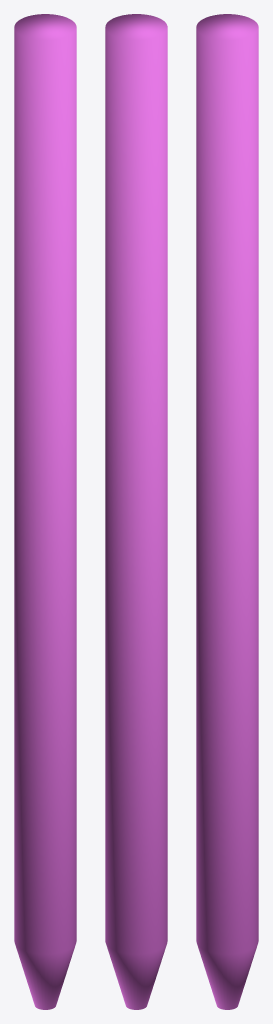
Rendered from PinForestTreeSplit1coloured.fbx.
The picture shows the model from 3 angles, left to right: view 1: azimuth 90°, elevation 25°; view 2: azimuth 150°, elevation 25°; view 3: azimuth 270°, elevation 25°; orthographic projection.
Parts seen in each view (by area): view 1: Cylinder; view 2: Cylinder; view 3: Cylinder.
Part boxes in pixels (box(x1,y1,x2,y2)): Cylinder: box(14, 14, 76, 1009); Cylinder: box(105, 14, 167, 1009); Cylinder: box(196, 14, 258, 1009).
Size of the model in its own units: 15.43 by 267 by 15.43.
